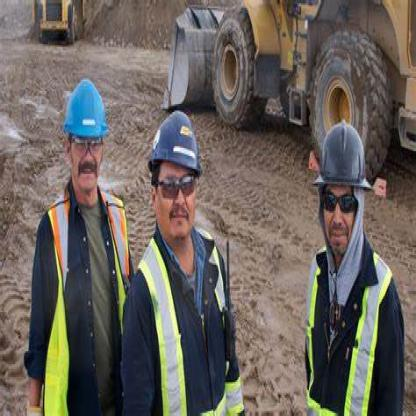person: (123, 96, 251, 414), (30, 52, 126, 414), (307, 128, 409, 412)
